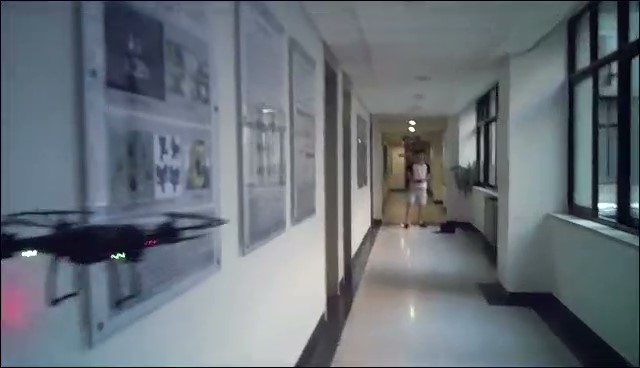drone: (1, 207, 232, 314)
person: (404, 148, 431, 230)
